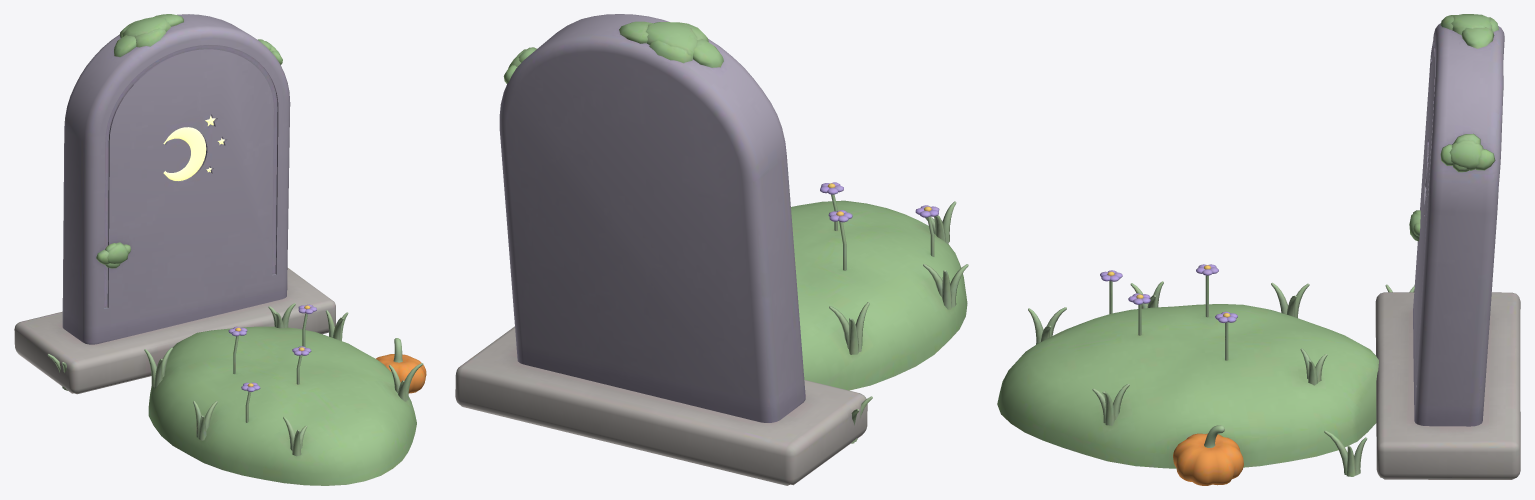
File: lapida.glb
3 views of the same model, side by side, from view 1: azimuth 30°, elevation 25°; view 2: azimuth 150°, elevation 25°; view 3: azimuth 270°, elevation 25° (orthographic). The views are drawn at different scales.
Parts seen in each view (by area): view 1: tombstone_body; view 2: tombstone_body; view 3: tombstone_body.
Boxes of the visible parts, x1,y1,x2,y2 form: tombstone_body: (14,14,426,485); tombstone_body: (455,14,968,485); tombstone_body: (997,14,1520,485).
Bounding box in the file's own units: 0.8205 × 0.8646 × 1.09.
2 materials, 1 textured.
